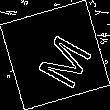M_NW: (22, 23, 88, 87)
